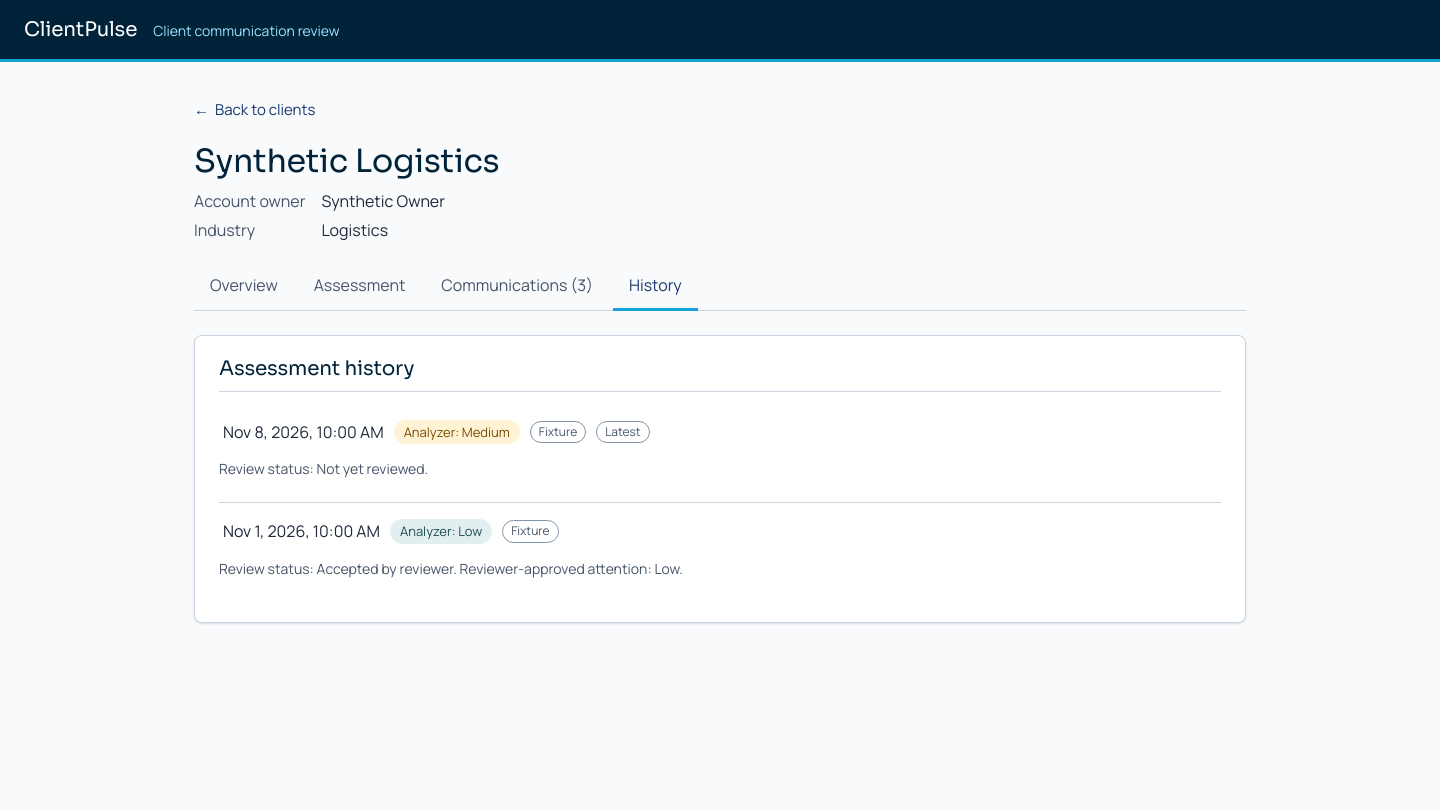
Test: client view › lists history and opens a past assessment on its own read-only page
Click the link "Nov 1, 2026, 10:00 AM Analyzer: Low Fixture": coordinates (391, 532) x1=223 y1=520 x2=558 y2=544
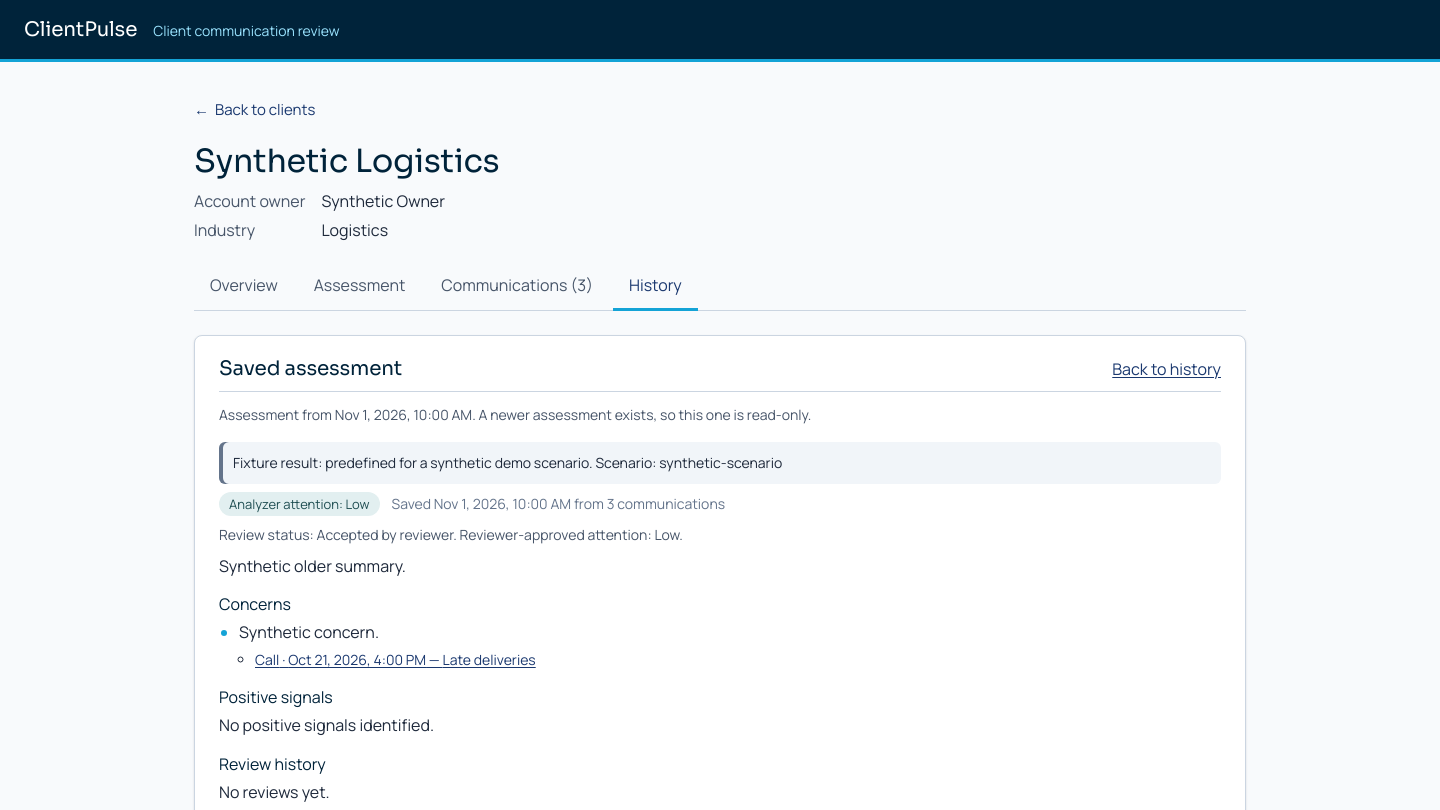
expect the text "Synthetic older summary." is shown: met, box x1=219 y1=555 x2=406 y2=577
expect the text "A newer assessment exists, so this one is read-only" is shown: met, box x1=478 y1=405 x2=811 y2=424
